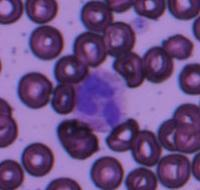N: (72, 68, 128, 132)
